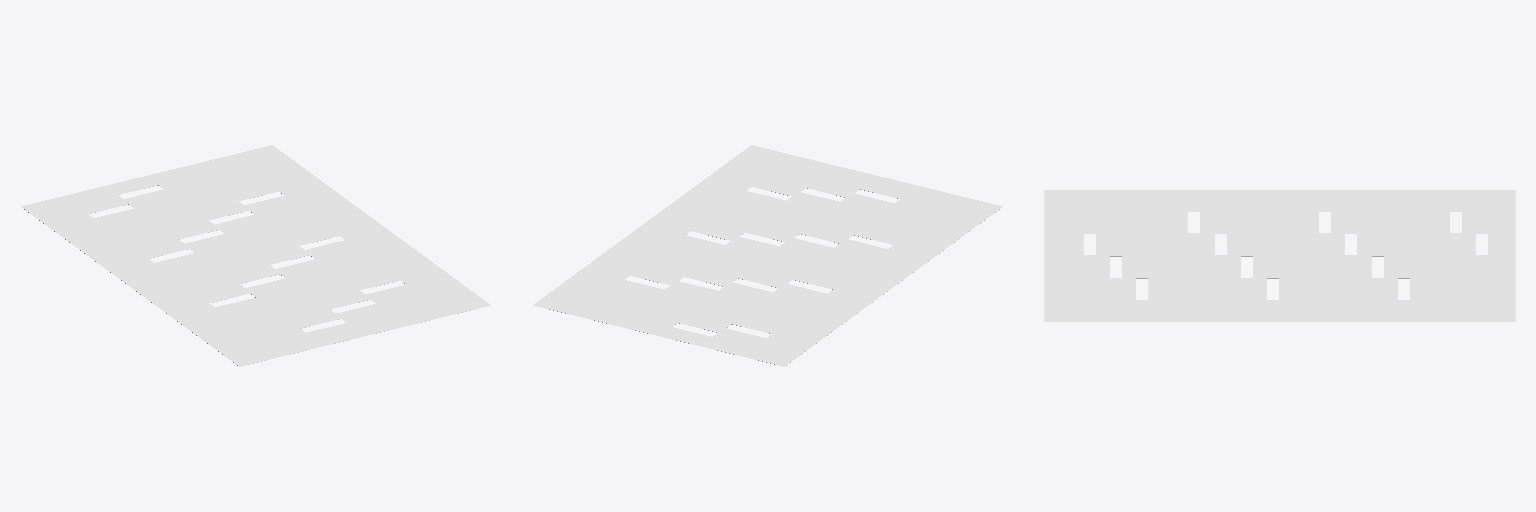
robot.urdf — Ceiling:
<?xml version="1.0" encoding="utf-8"?>
<!-- This URDF was automatically created by SolidWorks to URDF Exporter! Originally created by Stephen Brawner ([email redacted]) 
     Commit Version: 1.5.1-0-g916b5db  Build Version: 1.5.7152.31018
     For more information, please see http://wiki.ros.org/sw_urdf_exporter -->
<robot
  name="Ceiling">
  <link
    name="base_link">
    <inertial>
      <origin
        xyz="3.06011238639071 -5.58539017472581 2.7015"
        rpy="0 0 0" />
      <mass
        value="36.3461276688379" />
      <inertia
        ixx="367.601378748366"
        ixy="-1.31469754708647"
        ixz="8.79123637141452E-17"
        iyy="165.992326718623"
        iyz="2.25068448703889E-14"
        izz="533.593650947798" />
    </inertial>
    <visual>
      <origin
        xyz="0 0 0"
        rpy="0 0 0" />
      <geometry>
        <mesh
          filename="package://Ceiling/meshes/base_link.STL" />
      </geometry>
      <material
        name="">
        <color
          rgba="1 1 1 1" />
      </material>
    </visual>
    <collision>
      <origin
        xyz="0 0 0"
        rpy="0 0 0" />
      <geometry>
        <mesh
          filename="package://Ceiling/meshes/base_link.STL" />
      </geometry>
    </collision>
  </link>
</robot>

--- What the picture shows (computed from the rendered views, not written in the file) ---
The picture shows the robot from 3 angles, left to right: view 1: azimuth 30°, elevation 25°; view 2: azimuth 150°, elevation 25°; view 3: azimuth 270°, elevation 25°; orthographic projection.
Robot: Ceiling — 1 links, 0 joints (none); root link base_link; default pose: all joints at 0.
Visible links, largest first — view 1: base_link; view 2: base_link; view 3: base_link.
Boxes of the visible links, x1,y1,x2,y2 form: base_link: [21, 145, 490, 366]; base_link: [533, 145, 1002, 366]; base_link: [1044, 190, 1515, 321].
Bounding box of the posed robot: 7.29 × 10.96 × 0.003 m (x, y, z).
1 mesh visuals loaded from 1 distinct referenced files (1 binary STL).
